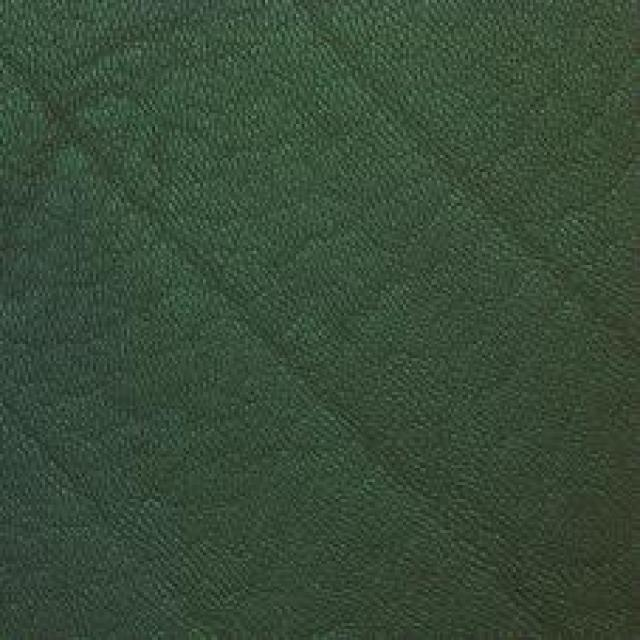Growth Marks: (40, 89, 293, 384), (363, 62, 571, 273)
